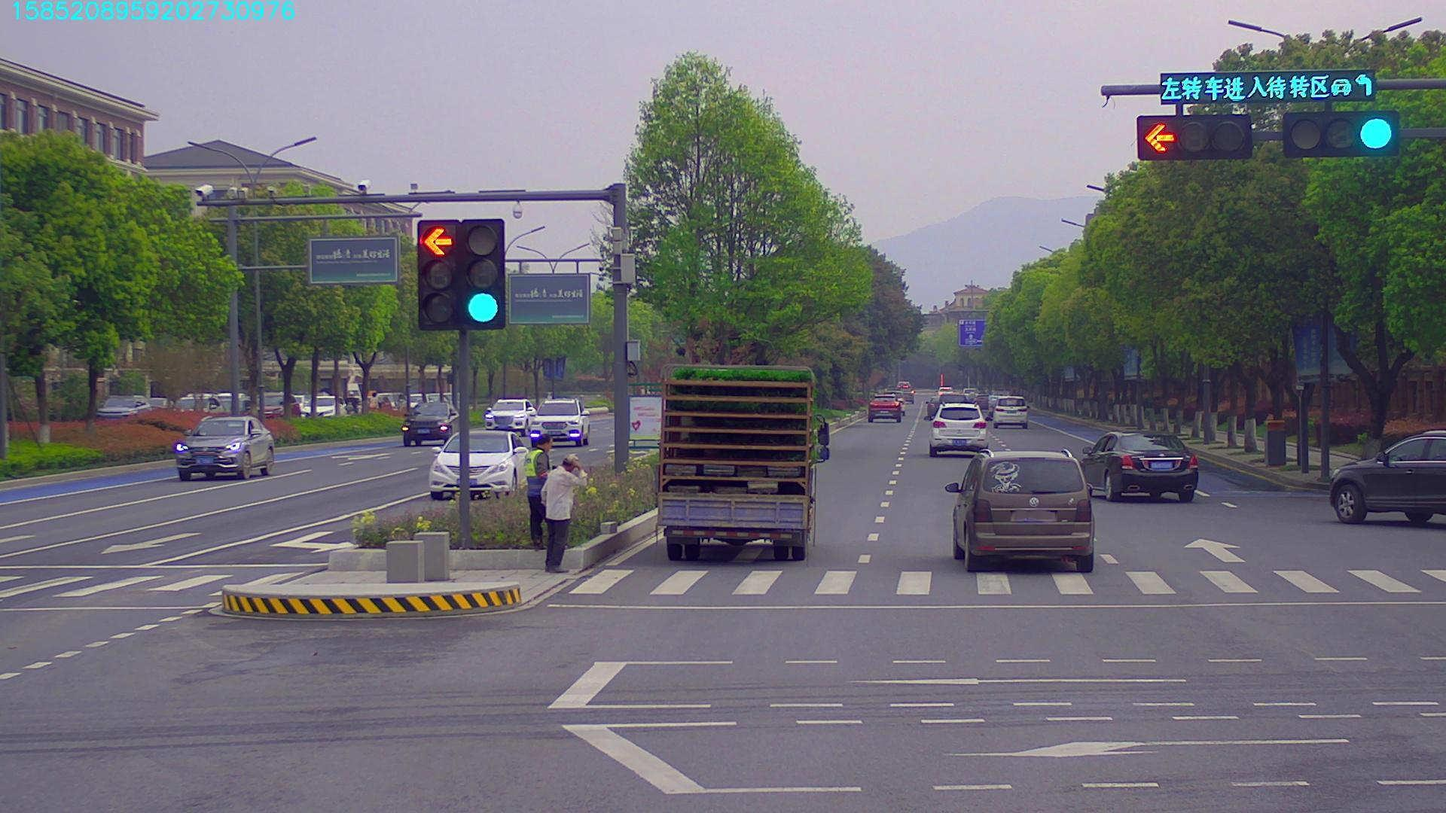green: (1287, 115, 1398, 153)
red: (1142, 115, 1249, 158)
wait_on: (1159, 69, 1375, 99)
